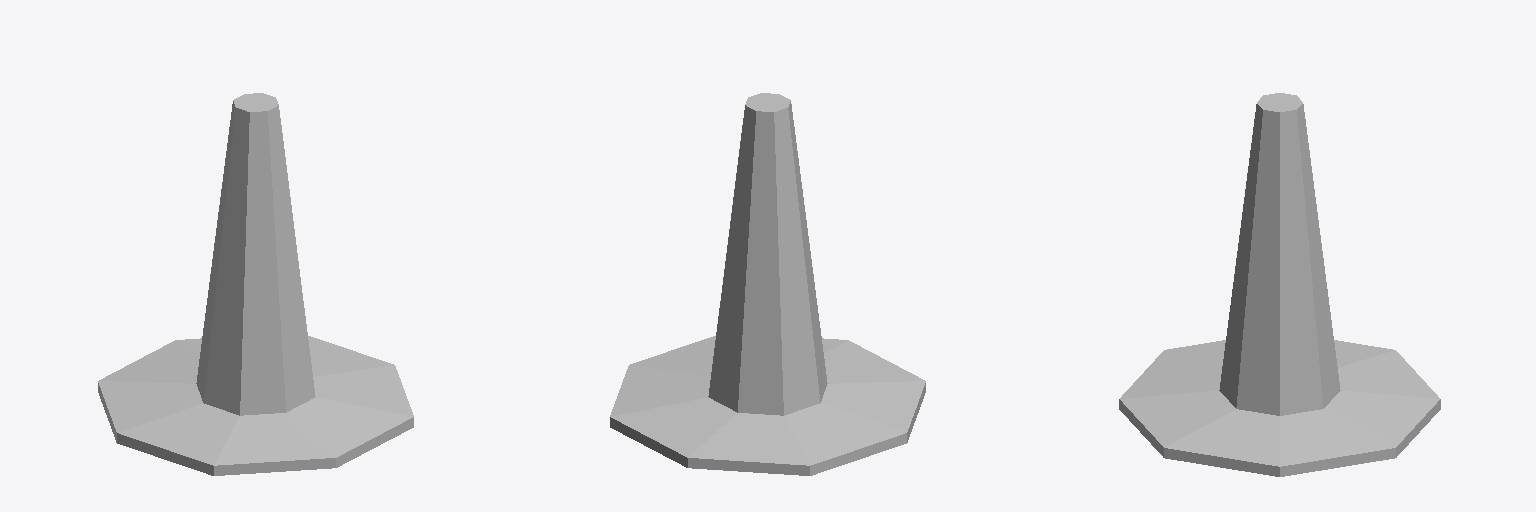
File: BasicCone.obj
The picture shows the model from 3 angles: view 1: azimuth 30°, elevation 25°; view 2: azimuth 150°, elevation 25°; view 3: azimuth 270°, elevation 25°; orthographic projection.
Visible parts, largest first — view 1: pCube2; view 2: pCube2; view 3: pCube2.
Boxes of the visible parts, <box> form: pCube2: <box>98,93,413,475</box>; pCube2: <box>610,93,925,475</box>; pCube2: <box>1119,93,1440,476</box>.
Bounding box in the file's own units: 1.39 × 1.46 × 1.39.